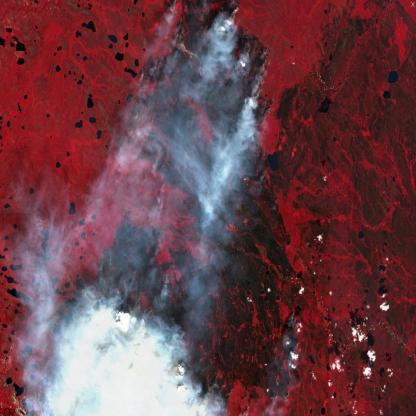fire: (86, 274, 258, 416), (115, 0, 270, 129)
